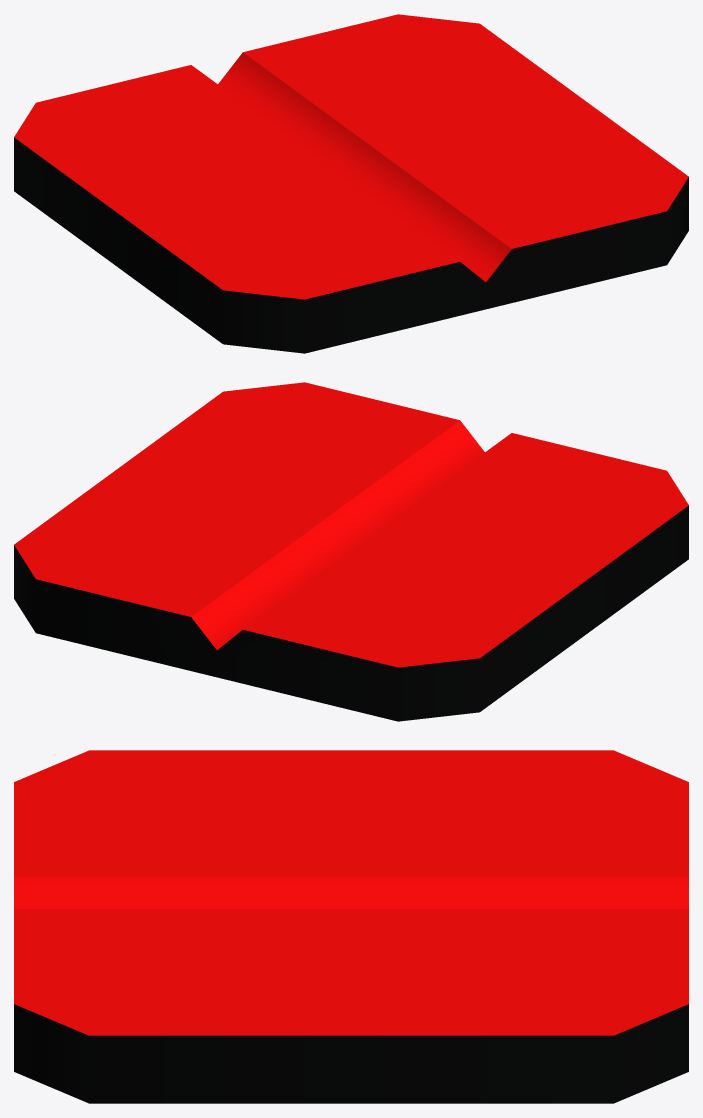
The model's file is debris-plate-a.glb.
3 renders of one model, top to bottom at view 1: azimuth 30°, elevation 25°; view 2: azimuth 150°, elevation 25°; view 3: azimuth 270°, elevation 25°, orthographic. The views are drawn at different scales.
Visible parts, largest first — view 1: debris-plate-a; view 2: debris-plate-a; view 3: debris-plate-a.
Part boxes in pixels (<box>): debris-plate-a: <box>14,14,688,353</box>; debris-plate-a: <box>14,382,688,721</box>; debris-plate-a: <box>14,750,688,1103</box>.
Size of the model in its own units: 0.9 by 0.0998 by 0.9.
1 material, 1 textured.
